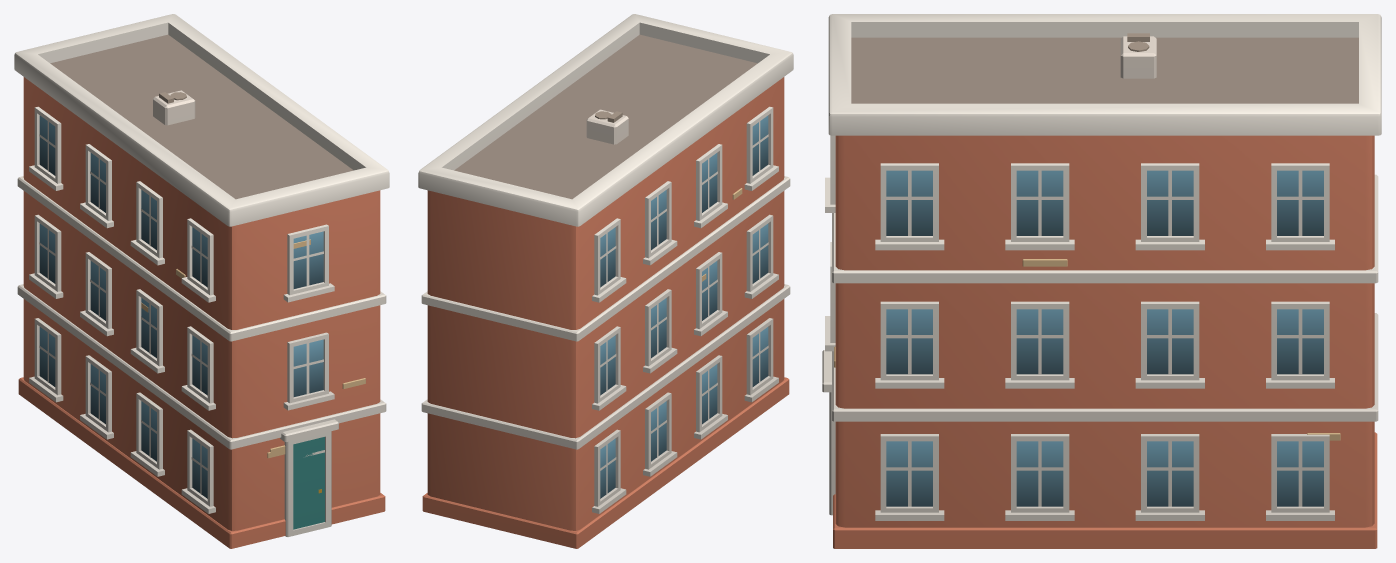
Rendered from beacon_n15.glb.
3 renders of one model, left to right at view 1: azimuth 30°, elevation 25°; view 2: azimuth 150°, elevation 25°; view 3: azimuth 270°, elevation 25°, orthographic. The views are drawn at different scales.
Visible parts, largest first — view 1: beacon_n15; view 2: beacon_n15; view 3: beacon_n15.
Boxes of the visible parts, bbox=[...] form: beacon_n15: bbox=[14, 14, 389, 548]; beacon_n15: bbox=[418, 14, 793, 548]; beacon_n15: bbox=[822, 14, 1381, 548].
Size of the model in its own units: 5.48 by 11.11 by 12.46.
1 material, 1 textured.
